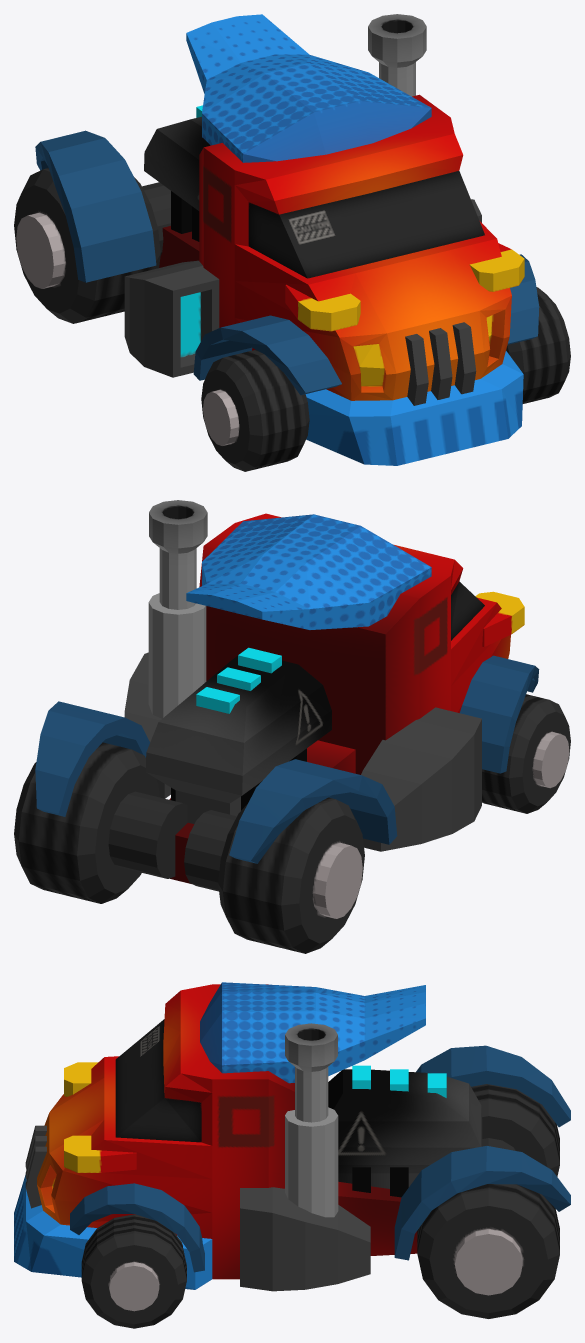
File: tiny-racer-3.glb
3 renders of one model, top to bottom at view 1: azimuth 30°, elevation 25°; view 2: azimuth 150°, elevation 25°; view 3: azimuth 270°, elevation 25°, orthographic. The views are drawn at different scales.
Visible parts, largest first — view 1: Cube.163, Cube.168, Cylinder.196, wheel_2, wheel_3, Cube.164, Cylinder.193, wheel_0, Cube.165, Cylinder.192, Cube.171, Cylinder.079 (+5 smaller); view 2: Cube.163, Cube.168, wheel_2, wheel_1, Cube.165, Cube.164, Cylinder.192, Cylinder.196, wheel_3, Cylinder.191, Cylinder.193, Cube.167 (+1 smaller); view 3: Cube.163, wheel_1, Cube.168, Cube.165, Cube.164, wheel_0, Cylinder.192, Cylinder.191, wheel_2, Cylinder.196, Cylinder.079, Cube.170 (+4 smaller).
Part boxes in pixels (x1,y1,x2,y2): Cube.163: [159, 94, 523, 465]; Cube.168: [186, 14, 431, 162]; Cylinder.196: [35, 130, 156, 282]; wheel_2: [14, 168, 170, 323]; wheel_3: [201, 349, 309, 471]; Cube.164: [124, 199, 481, 377]; Cylinder.193: [193, 315, 341, 395]; wheel_0: [506, 287, 570, 403]; Cube.165: [144, 116, 210, 210]; Cylinder.192: [368, 14, 426, 96]; Cube.171: [285, 284, 360, 331]; Cylinder.079: [507, 254, 539, 344]; Cube.163: [169, 513, 510, 883]; Cube.168: [186, 514, 431, 629]; wheel_2: [184, 797, 364, 953]; wheel_1: [14, 742, 187, 903]; Cube.165: [145, 656, 331, 823]; Cube.164: [124, 652, 481, 851]; Cylinder.192: [148, 500, 207, 718]; Cylinder.196: [229, 759, 397, 863]; wheel_3: [482, 694, 570, 813]; Cylinder.191: [35, 701, 149, 816]; Cylinder.193: [460, 655, 539, 773]; Cube.167: [196, 647, 281, 713]; Cube.163: [14, 984, 417, 1289]; wheel_1: [417, 1184, 559, 1318]; Cube.168: [200, 982, 425, 1083]; Cube.165: [328, 1069, 482, 1188]; Cube.164: [240, 1187, 370, 1291]; wheel_0: [81, 1214, 186, 1328]; Cylinder.192: [285, 1023, 338, 1217]; Cylinder.191: [394, 1146, 570, 1260]; wheel_2: [471, 1084, 559, 1176]; Cylinder.196: [416, 1045, 570, 1127]; Cylinder.079: [70, 1183, 204, 1272]; Cube.170: [64, 1135, 136, 1172].
Size of the model in its own units: 0.8986 by 0.7745 by 1.42.
1 material, 1 textured.
